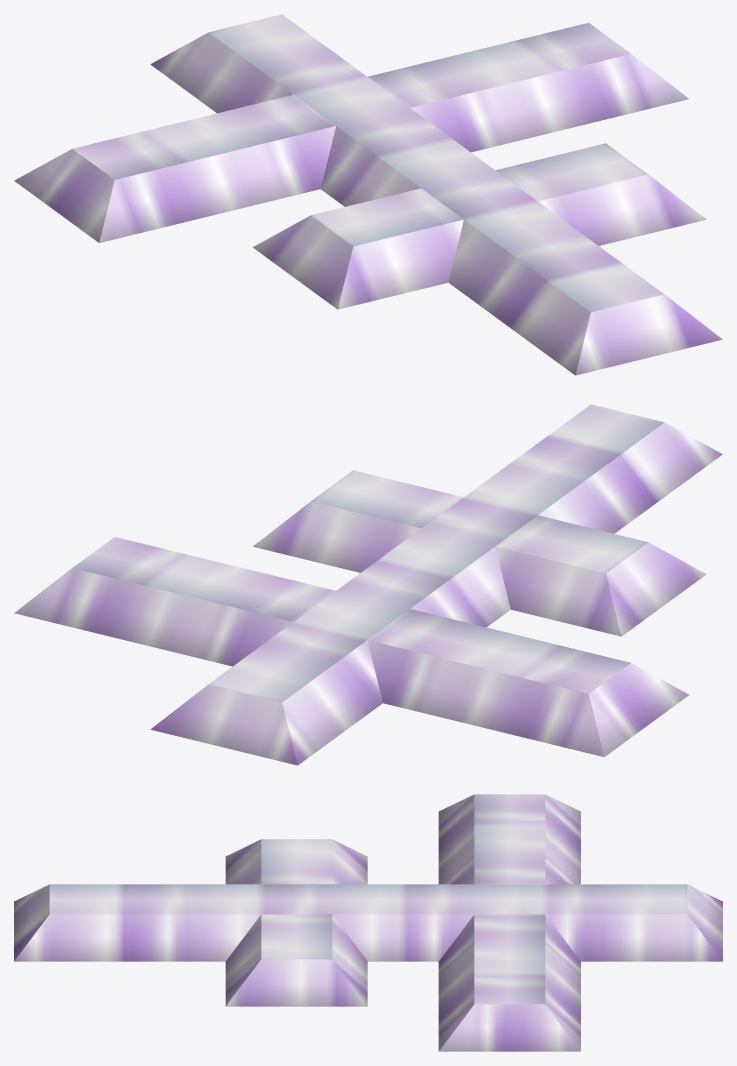
The model's file is rune_style_a_active.obj.
3 views of the same model, one above another, from view 1: azimuth 30°, elevation 25°; view 2: azimuth 150°, elevation 25°; view 3: azimuth 270°, elevation 25° (orthographic). The views are drawn at different scales.
Parts seen in each view (by area): view 1: RUNE_STYLE_A_ACTIVE_Plane.015; view 2: RUNE_STYLE_A_ACTIVE_Plane.015; view 3: RUNE_STYLE_A_ACTIVE_Plane.015.
Boxes of the visible parts, x1,y1,x2,y2 form: RUNE_STYLE_A_ACTIVE_Plane.015: (14, 14, 722, 375); RUNE_STYLE_A_ACTIVE_Plane.015: (14, 404, 722, 765); RUNE_STYLE_A_ACTIVE_Plane.015: (14, 794, 722, 1051).
Size of the model in its own units: 0.5 by 0.0312 by 0.6237.
